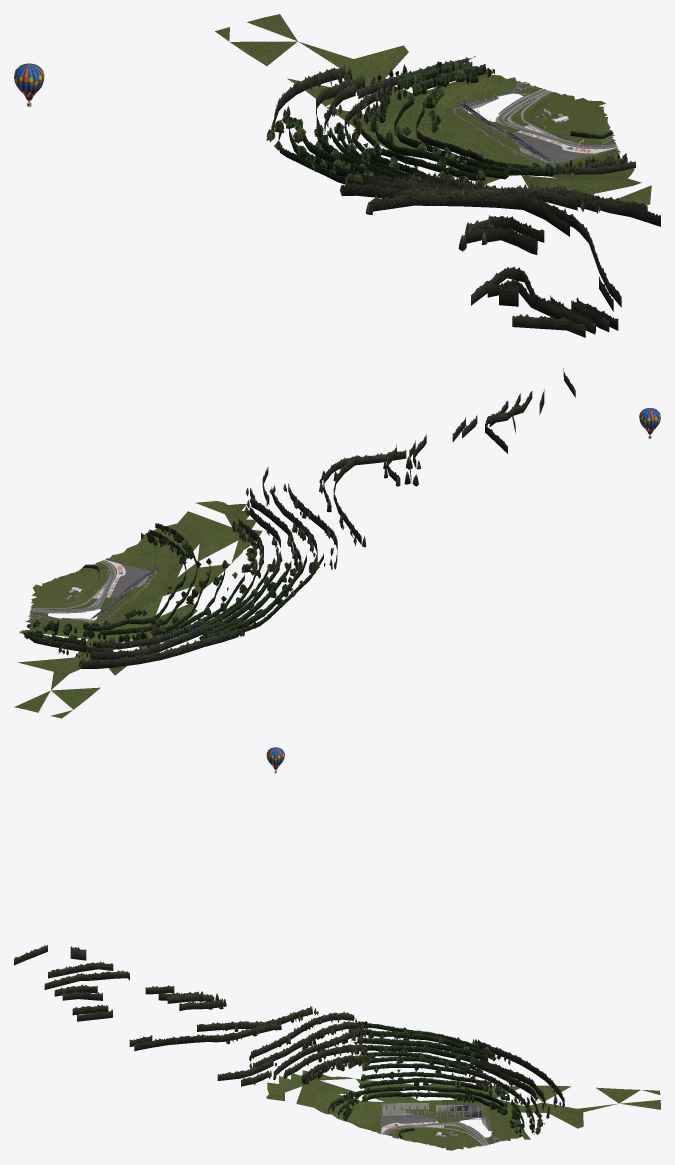
3 views of the same model, one above another, from view 1: azimuth 30°, elevation 25°; view 2: azimuth 150°, elevation 25°; view 3: azimuth 270°, elevation 25° (orthographic). The views are drawn at different scales.
Visible parts, largest first — view 1: tile_t00; view 2: tile_t00; view 3: tile_t00.
Part boxes in pixels (<box>): tile_t00: <box>14,14,660,337</box>; tile_t00: <box>14,368,660,718</box>; tile_t00: <box>14,747,660,1150</box>.
Bounding box in the file's own units: 1309 × 555 × 1666.
46 materials, 46 textured.
